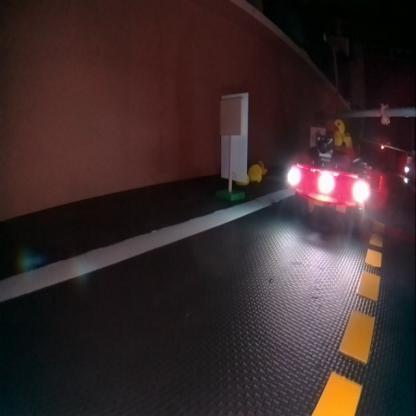Duckie: (332, 119, 350, 144), (248, 164, 261, 181)
Duckiebot: (289, 143, 382, 224)
